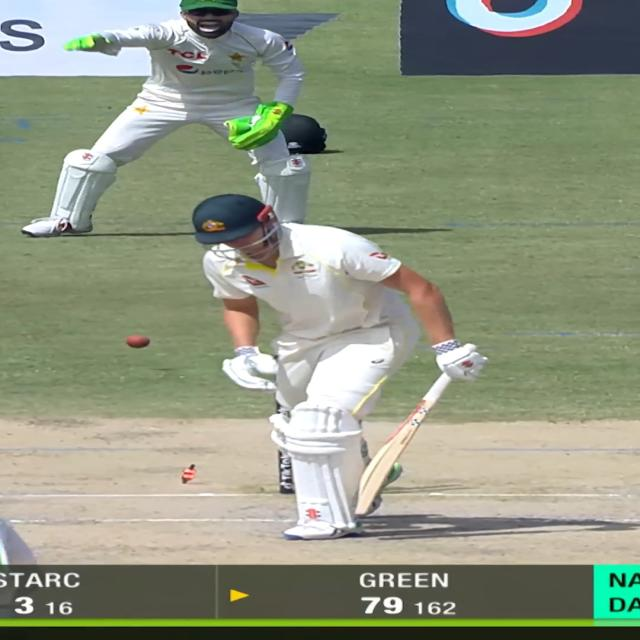Cricket ball: (126, 334, 151, 350)
